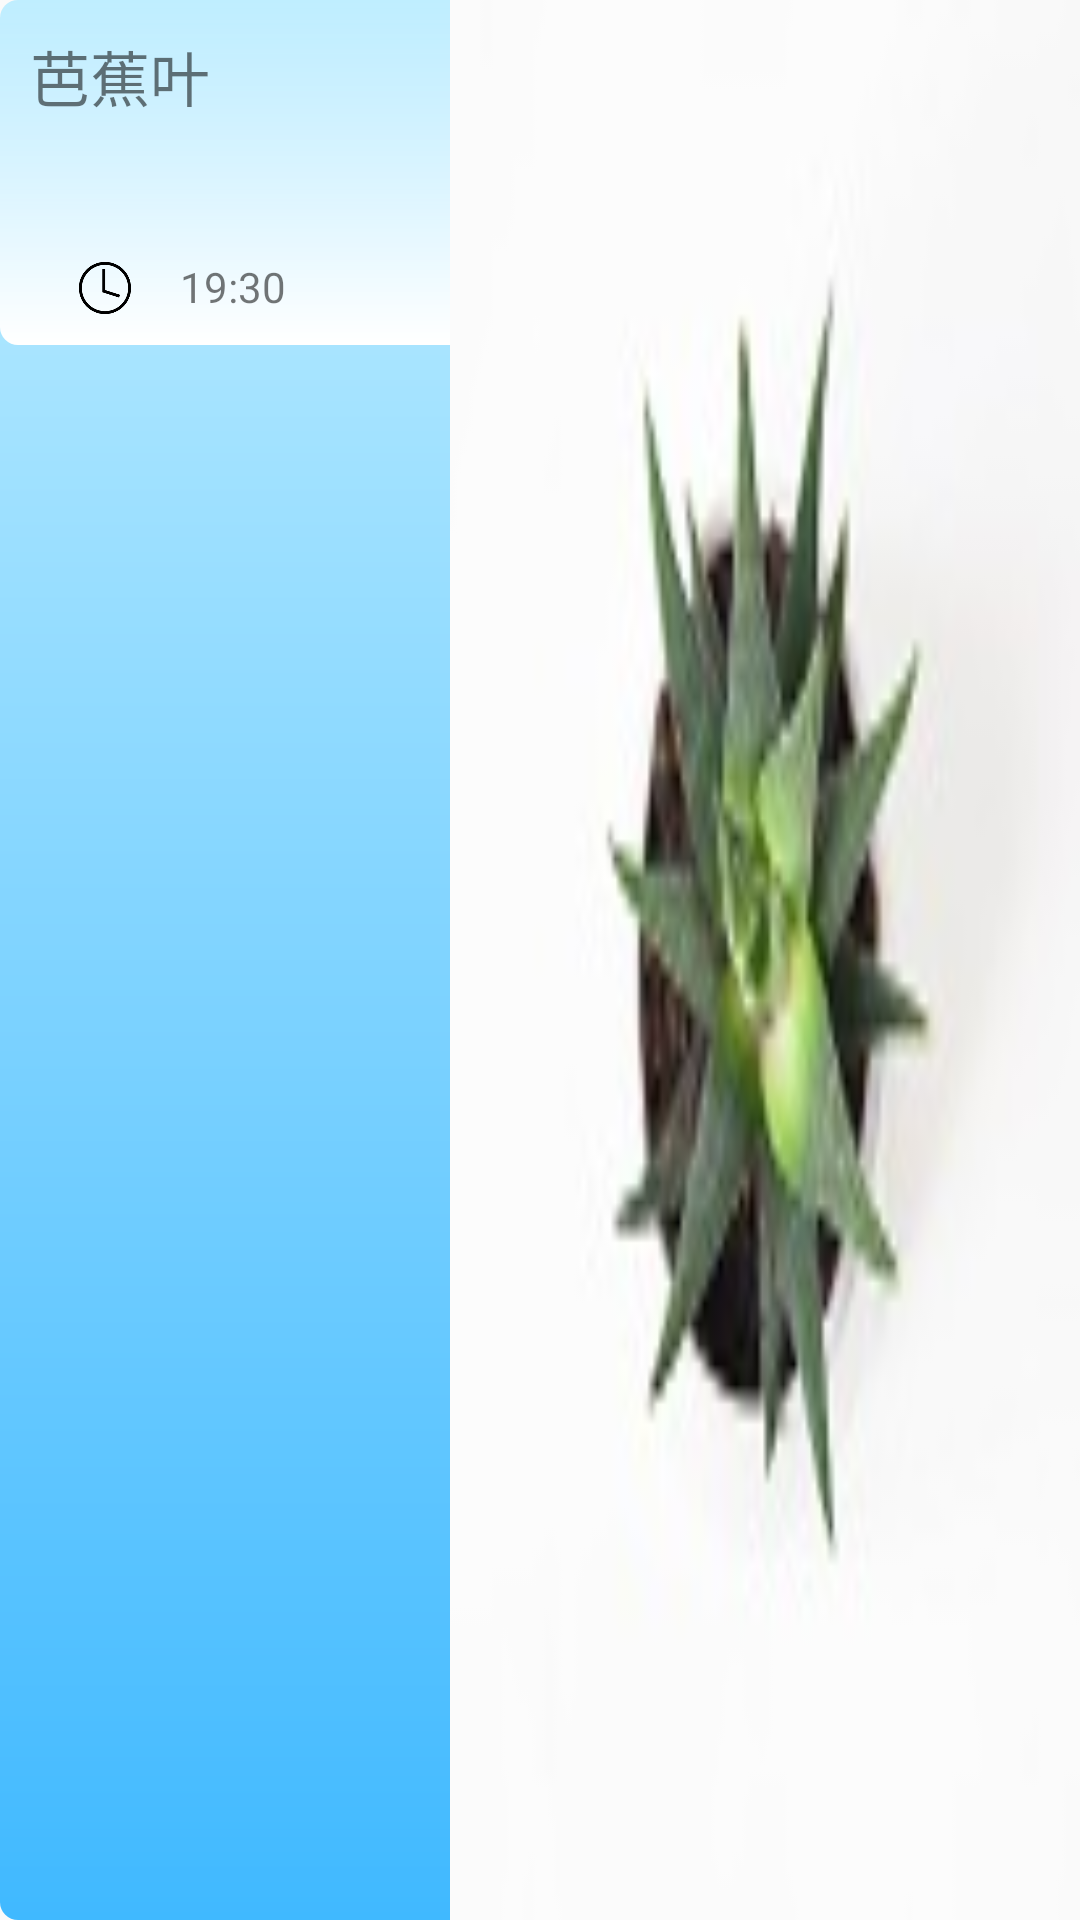

Where to tap for icons on this 1080x1920 app screen, as point (x, y):
colock: point (105, 288)
